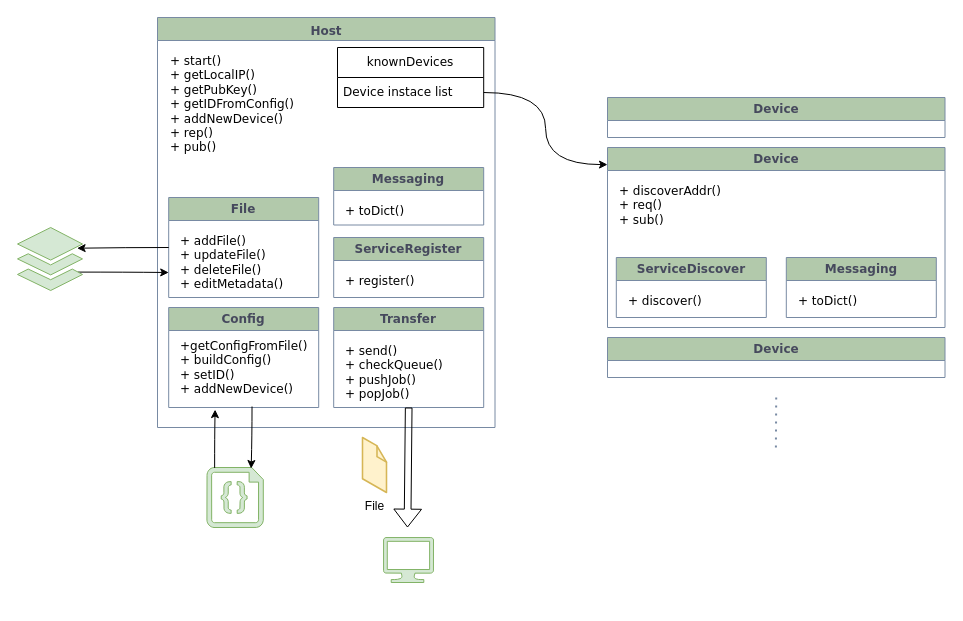
The diagram is 963 pixels wide and 621 high, and some of its shapes have lost their labels. Here are the shapes that lost their labels. From the top down, the centre of each, then its label:
the point at 49,258: file DB
the point at 234,497: config.json
the point at 408,559: Device(s)
